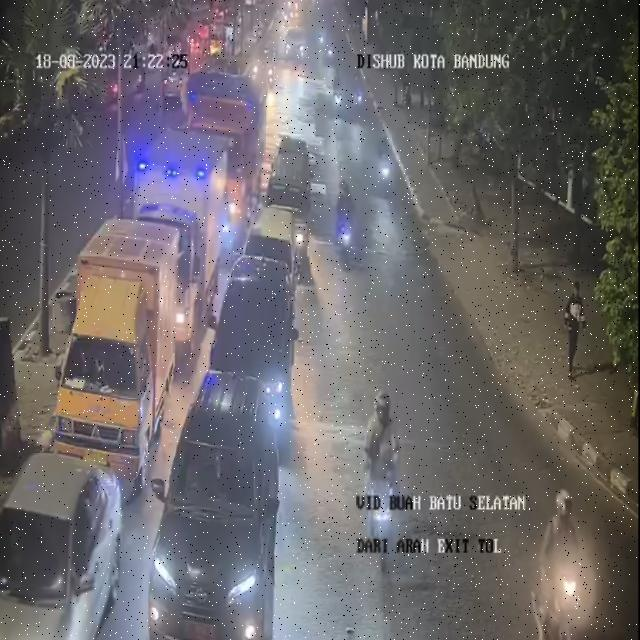cars: (152, 365, 284, 636), (48, 220, 171, 498), (0, 453, 124, 640), (208, 210, 302, 449), (131, 137, 231, 343), (236, 195, 304, 301), (260, 145, 312, 250)
motorcycle: (524, 483, 590, 640), (356, 386, 406, 558), (333, 175, 360, 268), (374, 127, 392, 195)
truck: (182, 75, 266, 239)
